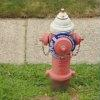a fire hydrant: (40, 10, 72, 87)
